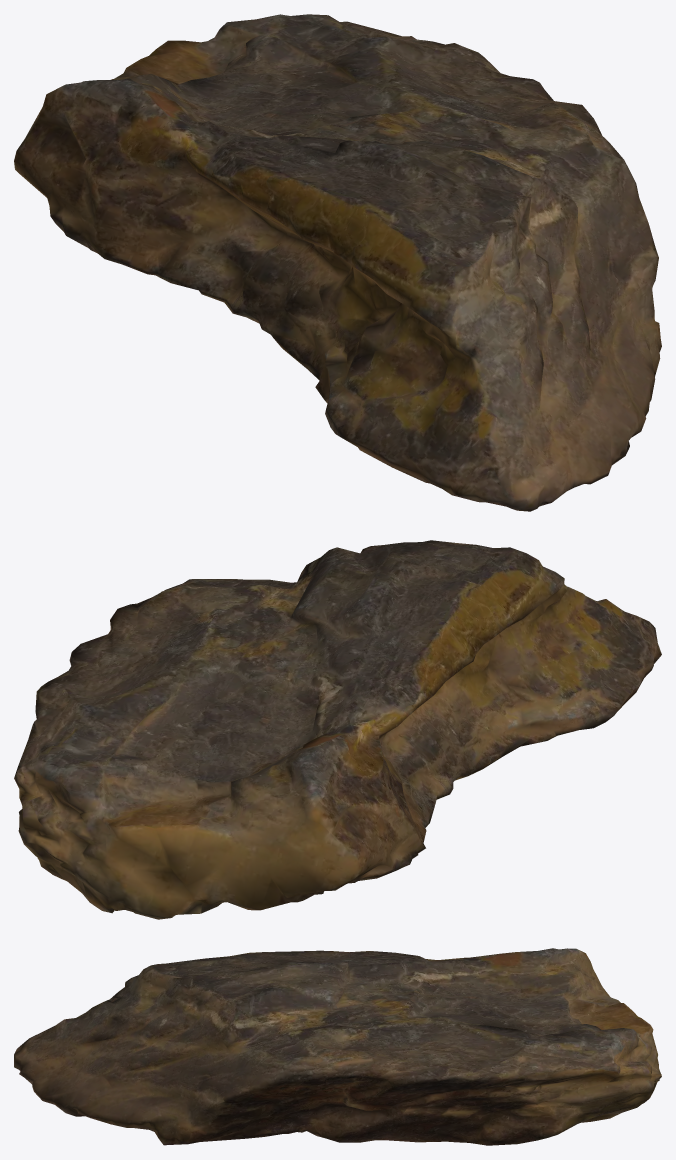
Rendered from rock_09_lod.glb.
3 views of the same model, one above another, from view 1: azimuth 30°, elevation 25°; view 2: azimuth 150°, elevation 25°; view 3: azimuth 270°, elevation 25° (orthographic). The views are drawn at different scales.
Visible parts, largest first — view 1: rock_09_LOD0; view 2: rock_09_LOD0; view 3: rock_09_LOD0.
Part boxes in pixels (left/top/right/bottom): rock_09_LOD0: left=14, top=14, right=661, bottom=511; rock_09_LOD0: left=14, top=540, right=661, bottom=919; rock_09_LOD0: left=14, top=948, right=661, bottom=1145.
Size of the model in its own units: 0.074 by 0.0328 by 0.1446.
1 material, 1 textured.
